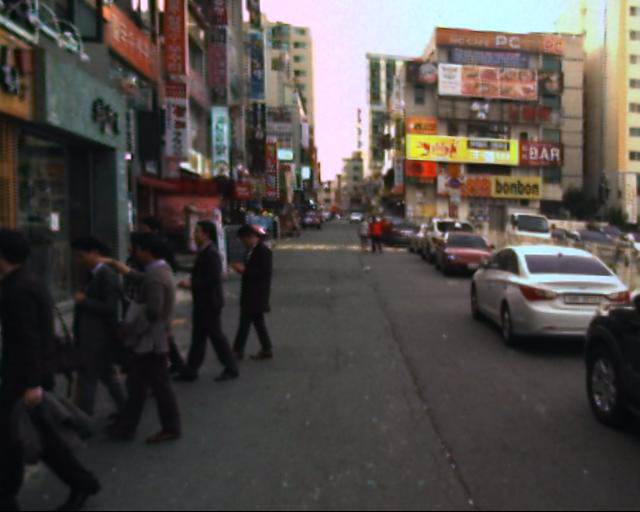person: (29, 172, 183, 481), (180, 207, 237, 386), (226, 215, 290, 373), (347, 203, 374, 269), (368, 202, 393, 269)
